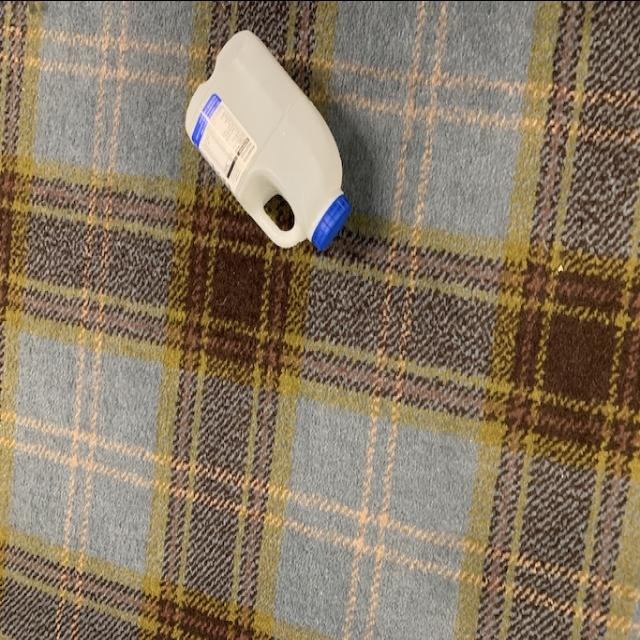HDPEM: (186, 25, 356, 257)
